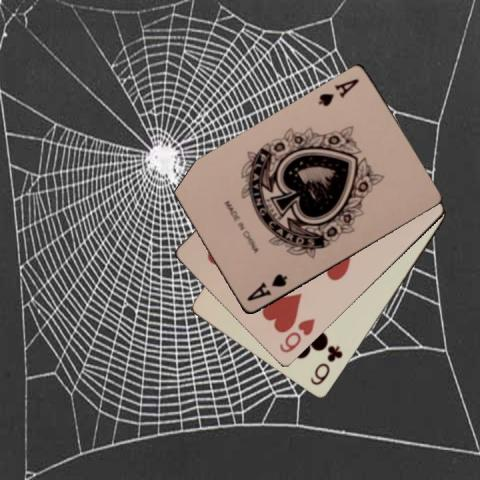6c: (306, 343, 344, 387)
6h: (276, 316, 317, 356)
As: (315, 76, 360, 109), (244, 271, 289, 303)
